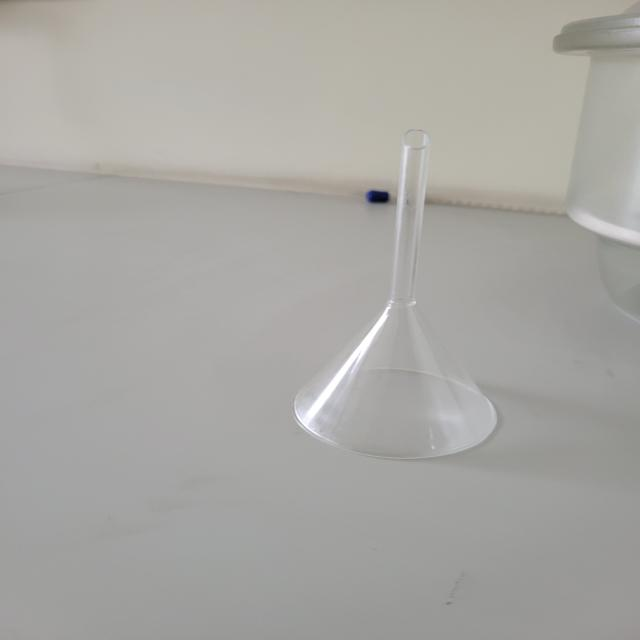Funnel: (284, 122, 517, 476)
